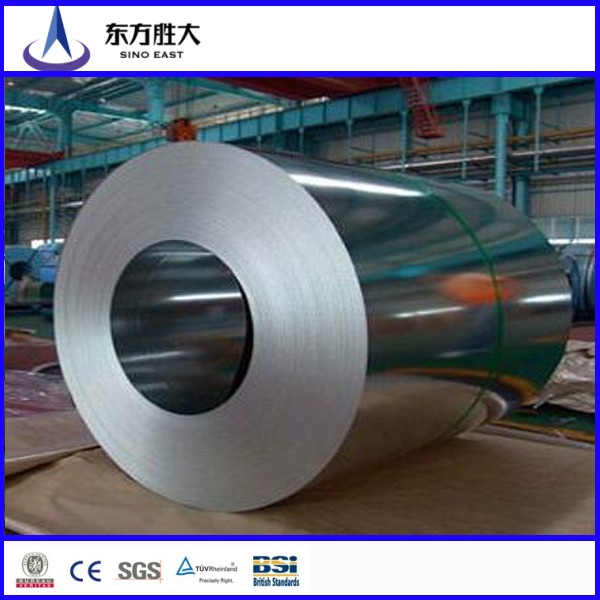steel-coil: (47, 134, 580, 495), (76, 134, 580, 495)
